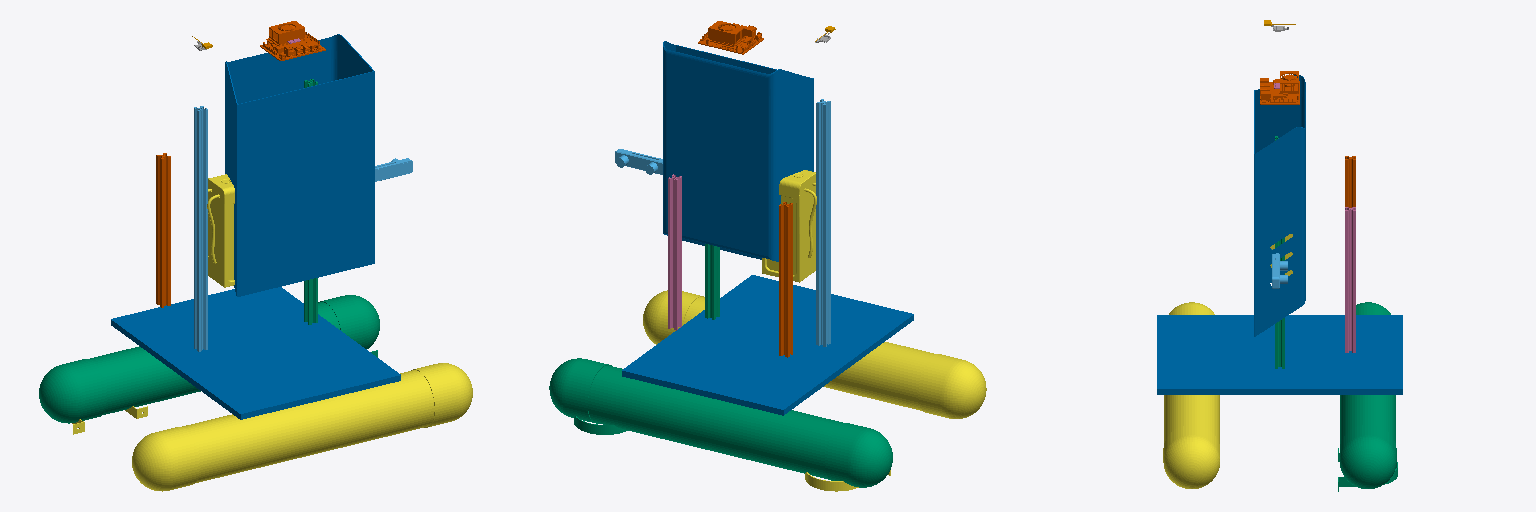
The robot description file, URDF, robot "asv_station_keeping_diag":
<?xml version='1.0' encoding='utf-8'?>
<robot name="asv_station_keeping_diag">
  <!-- Mesh-loading test only. Mounting poses are estimates, not Fusion occurrence transforms. 00_base has no visuals. -->
  <link name="base_footprint" />
  <link name="base_link">
    <inertial>
      <origin xyz="0 0 0" rpy="0 0 0" />
      <mass value="0.1" />
      <inertia ixx="0.0001" ixy="0" ixz="0" iyy="0.0001" iyz="0" izz="0.0001" />
    </inertial>
  </link>
  <link name="hull_left">
    <inertial>
      <origin xyz="0.0017543 -0.0000047 -0.0000010" rpy="0 0 0" />
      <mass value="8.7513272838" />
      <inertia ixx="0.0159438897" ixy="0" ixz="0" iyy="0.7485544942" iyz="0" izz="0.7485544942" />
    </inertial>
    <visual name="hull_left_visual">
      <origin xyz="-0.971730 0.357754 -1.641617" rpy="0 0 -1.57079632679" />
      <geometry>
        <mesh filename="package://asv_station_keeping/meshes/hull.stl" scale="0.001 0.001 0.001" />
      </geometry>
    </visual>
    <collision name="hull_left_collision">
      <geometry>
        <box size="0.724805 0.112973 0.112998" />
      </geometry>
    </collision>
  </link>
  <link name="hull_right">
    <inertial>
      <origin xyz="0.0017543 -0.0000047 -0.0000010" rpy="0 0 0" />
      <mass value="8.7513272838" />
      <inertia ixx="0.0159438897" ixy="0" ixz="0" iyy="0.7485544942" iyz="0" izz="0.7485544942" />
    </inertial>
    <visual name="hull_right_visual">
      <origin xyz="-0.971730 0.357754 -1.641617" rpy="0 0 -1.57079632679" />
      <geometry>
        <mesh filename="package://asv_station_keeping/meshes/hull.stl" scale="0.001 0.001 0.001" />
      </geometry>
    </visual>
    <collision name="hull_right_collision">
      <geometry>
        <box size="0.724805 0.112973 0.112998" />
      </geometry>
    </collision>
  </link>
  <link name="base_deck">
    <inertial>
      <origin xyz="0 0 0" rpy="0 0 0" />
      <mass value="16.1553" />
      <inertia ixx="0.3234344911" ixy="0" ixz="0" iyy="0.1651125511" iyz="0" izz="0.4881593150" />
    </inertial>
    <visual name="base_deck_visual">
      <origin xyz="-0.142254 -0.216347 -0.006000" rpy="1.57079632679 0 0" />
      <geometry>
        <mesh filename="package://asv_station_keeping/meshes/base_deck.stl" scale="0.001 0.001 0.001" />
      </geometry>
    </visual>
    <collision name="base_deck_collision">
      <geometry>
        <box size="0.350 0.490 0.012" />
      </geometry>
    </collision>
  </link>
  <link name="frame1_left">
    <inertial>
      <origin xyz="0 0 0" />
      <mass value="0.41469714" />
      <inertia ixx="0.00333785" ixy="0" ixz="0" iyy="0.00333785" iyz="0" izz="0.0000336422" />
    </inertial>
    <visual>
      <geometry>
        <mesh filename="package://asv_station_keeping/meshes/frame1.stl" scale="0.001 0.001 0.001" />
      </geometry>
    </visual>
    <collision>
      <geometry>
        <cylinder radius="0.010" length="0.310" />
      </geometry>
    </collision>
  </link>
  <link name="frame1_right">
    <inertial>
      <origin xyz="0 0 0" />
      <mass value="0.41469714" />
      <inertia ixx="0.00333785" ixy="0" ixz="0" iyy="0.00333785" iyz="0" izz="0.0000336422" />
    </inertial>
    <visual>
      <geometry>
        <mesh filename="package://asv_station_keeping/meshes/frame1.stl" scale="0.001 0.001 0.001" />
      </geometry>
    </visual>
    <collision>
      <geometry>
        <cylinder radius="0.010" length="0.310" />
      </geometry>
    </collision>
  </link>
  <link name="frame2_left">
    <inertial>
      <origin xyz="0 0 0" />
      <mass value="0.66886635" />
      <inertia ixx="0.01396185" ixy="0" ixz="0" iyy="0.01396185" iyz="0" izz="0.000054262" />
    </inertial>
    <visual>
      <geometry>
        <mesh filename="package://asv_station_keeping/meshes/frame2.stl" scale="0.001 0.001 0.001" />
      </geometry>
    </visual>
    <collision>
      <geometry>
        <cylinder radius="0.010" length="0.500" />
      </geometry>
    </collision>
  </link>
  <link name="frame2_right">
    <inertial>
      <origin xyz="0 0 0" />
      <mass value="0.66886635" />
      <inertia ixx="0.01396185" ixy="0" ixz="0" iyy="0.01396185" iyz="0" izz="0.000054262" />
    </inertial>
    <visual>
      <geometry>
        <mesh filename="package://asv_station_keeping/meshes/frame2.stl" scale="0.001 0.001 0.001" />
      </geometry>
    </visual>
    <collision>
      <geometry>
        <cylinder radius="0.010" length="0.500" />
      </geometry>
    </collision>
  </link>
  <link name="frame3_left">
    <inertial>
      <origin xyz="0 0 0" />
      <mass value="0.66886635" />
      <inertia ixx="0.01396185" ixy="0" ixz="0" iyy="0.01396185" iyz="0" izz="0.000054262" />
    </inertial>
    <visual>
      <geometry>
        <mesh filename="package://asv_station_keeping/meshes/frame3.stl" scale="0.001 0.001 0.001" />
      </geometry>
    </visual>
    <collision>
      <geometry>
        <cylinder radius="0.010" length="0.500" />
      </geometry>
    </collision>
  </link>
  <link name="frame3_right">
    <inertial>
      <origin xyz="0 0 0" />
      <mass value="0.66886635" />
      <inertia ixx="0.01396185" ixy="0" ixz="0" iyy="0.01396185" iyz="0" izz="0.000054262" />
    </inertial>
    <visual>
      <geometry>
        <mesh filename="package://asv_station_keeping/meshes/frame3.stl" scale="0.001 0.001 0.001" />
      </geometry>
    </visual>
    <collision>
      <geometry>
        <cylinder radius="0.010" length="0.500" />
      </geometry>
    </collision>
  </link>
  <link name="battery">
    <inertial>
      <origin xyz="0.011821 0 0.000846" />
      <mass value="8.29420474" />
      <inertia ixx="0.0317350" ixy="0" ixz="0.0000687" iyy="0.0339037" iyz="0" izz="0.00778636" />
    </inertial>
    <visual>
      <origin xyz="0.012244 -0.035000 -0.000150" />
      <geometry>
        <mesh filename="package://asv_station_keeping/meshes/battery.stl" scale="0.001 0.001 0.001" />
      </geometry>
    </visual>
    <collision>
      <geometry>
        <box size="0.109 0.070 0.202" />
      </geometry>
    </collision>
  </link>
  <link name="electronics">
    <inertial>
      <origin xyz="0 -0.005565 -0.000224" />
      <mass value="4.50915118" />
      <inertia ixx="0.0697094" ixy="0" ixz="0" iyy="0.1035140" iyz="-0.00452282" izz="0.0519051" />
    </inertial>
    <visual>
      <origin xyz="0 -0.051000 -0.023578" />
      <geometry>
        <mesh filename="package://asv_station_keeping/meshes/electronics.stl" scale="0.001 0.001 0.001" />
      </geometry>
    </visual>
    <collision>
      <geometry>
        <box size="0.300 0.102 0.447" />
      </geometry>
    </collision>
  </link>
  <link name="jetson_nano">
    <inertial>
      <origin xyz="-0.001623 0.002547 -0.004382" />
      <mass value="0.55767391" />
      <inertia ixx="0.00033845" ixy="0.000000893" ixz="0.00000257" iyy="0.00033690" iyz="-0.00004065" izz="0.00056875" />
    </inertial>
    <visual>
      <origin xyz="-0.004000 -0.007385 -0.025097" />
      <geometry>
        <mesh filename="package://asv_station_keeping/meshes/Jetson-Nano.stl" scale="0.001 0.001 0.001" />
      </geometry>
    </visual>
    <collision>
      <geometry>
        <box size="0.100 0.080 0.040" />
      </geometry>
    </collision>
  </link>
  <link name="imu_link">
    <inertial>
      <origin xyz="-0.00000256 0.00000402 0" />
      <mass value="0.00700317" />
      <inertia ixx="0.0000002895" ixy="0.000000000021" ixz="0" iyy="0.0000003634" iyz="0" izz="0.0000006497" />
    </inertial>
    <visual>
      <geometry>
        <mesh filename="package://asv_station_keeping/meshes/imu_Adafruit-BNO085-STEMMA-QT.step_Printed-Circuit-Board.step.stl" scale="0.001 0.001 0.001" />
      </geometry>
    </visual>
    <collision>
      <geometry>
        <box size="0.0254 0.0229 0.00165" />
      </geometry>
    </collision>
  </link>
  <link name="gps">
    <inertial>
      <origin xyz="0.000722 -0.000920 -0.001504" />
      <mass value="0.0120864" />
      <inertia ixx="0.0000007935" ixy="-0.0000001189" ixz="-0.0000000123" iyy="0.0000003115" iyz="-0.0000000289" izz="0.0000010352" />
    </inertial>
    <visual>
      <origin xyz="0.477241 -0.271714 -0.058863" />
      <geometry>
        <mesh filename="package://asv_station_keeping/meshes/gps.stl" scale="0.001 0.001 0.001" />
      </geometry>
    </visual>
    <collision>
      <geometry>
        <box size="0.018 0.038 0.010" />
      </geometry>
    </collision>
  </link>
  <link name="gps_antenna">
    <inertial>
      <origin xyz="0 -0.023073 0.000028" />
      <mass value="0.00977979" />
      <inertia ixx="0.0000006570" ixy="0" ixz="0" iyy="0.0000001906" iyz="0.0000000297" izz="0.0000007948" />
    </inertial>
    <visual>
      <origin xyz="0 -0.024375 -0.002900" />
      <geometry>
        <mesh filename="package://asv_station_keeping/meshes/gps_antenna.stl" scale="0.001 0.001 0.001" />
      </geometry>
    </visual>
    <collision>
      <geometry>
        <box size="0.015 0.064 0.006" />
      </geometry>
    </collision>
  </link>
  <link name="zed_camera">
    <inertial>
      <origin xyz="0.001495 -0.005480 -0.000004" />
      <mass value="0.43618915" />
      <inertia ixx="0.00004355" ixy="-0.00000770" ixz="0.000000005" iyy="0.00057262" iyz="0.000000007" izz="0.00057177" />
    </inertial>
    <visual>
      <origin xyz="0.002250 -0.015125 -0.000012" />
      <geometry>
        <mesh filename="package://asv_station_keeping/meshes/zed_camera.stl" scale="0.001 0.001 0.001" />
      </geometry>
    </visual>
    <collision>
      <geometry>
        <box size="0.125 0.030 0.027" />
      </geometry>
    </collision>
  </link>
  <link name="clamp_left_front">
    <inertial>
      <origin xyz="0 0.001988 0" />
      <mass value="0.10948492" />
      <inertia ixx="0.00019881" ixy="0" ixz="0" iyy="0.00029460" iyz="0" izz="0.00048607" />
    </inertial>
    <visual>
      <origin xyz="-0.039825 -0.046506 -0.010000" />
      <geometry>
        <mesh filename="package://asv_station_keeping/meshes/clamp.stl" scale="0.001 0.001 0.001" />
      </geometry>
    </visual>
    <collision>
      <geometry>
        <box size="0.163 0.120 0.020" />
      </geometry>
    </collision>
  </link>
  <link name="clamp_left_rear">
    <inertial>
      <origin xyz="0 0.001988 0" />
      <mass value="0.10948492" />
      <inertia ixx="0.00019881" ixy="0" ixz="0" iyy="0.00029460" iyz="0" izz="0.00048607" />
    </inertial>
    <visual>
      <origin xyz="-0.039825 -0.046506 -0.010000" />
      <geometry>
        <mesh filename="package://asv_station_keeping/meshes/clamp.stl" scale="0.001 0.001 0.001" />
      </geometry>
    </visual>
    <collision>
      <geometry>
        <box size="0.163 0.120 0.020" />
      </geometry>
    </collision>
  </link>
  <joint name="base_footprint_to_base_link" type="fixed">
    <parent link="base_footprint" />
    <child link="base_link" />
    <origin xyz="0 0 0" rpy="0 0 0" />
  </joint>
  <joint name="base_to_hull_left" type="fixed">
    <parent link="base_link" />
    <child link="hull_left" />
    <origin xyz="0 0.175 0.055" rpy="0 0 0" />
  </joint>
  <joint name="base_to_hull_right" type="fixed">
    <parent link="base_link" />
    <child link="hull_right" />
    <origin xyz="0 -0.175 0.055" rpy="0 0 0" />
  </joint>
  <joint name="base_to_base_deck" type="fixed">
    <parent link="base_link" />
    <child link="base_deck" />
    <origin xyz="0 0 0.145" rpy="0 0 0" />
  </joint>
  <joint name="deck_to_frame1_left" type="fixed">
    <parent link="base_deck" />
    <child link="frame1_left" />
    <origin xyz="-0.12 0.14 0.22" />
  </joint>
  <joint name="deck_to_frame1_right" type="fixed">
    <parent link="base_deck" />
    <child link="frame1_right" />
    <origin xyz="0.12 0.14 0.22" />
  </joint>
  <joint name="deck_to_frame2_left" type="fixed">
    <parent link="base_deck" />
    <child link="frame2_left" />
    <origin xyz="-0.12 -0.14 0.28" />
  </joint>
  <joint name="deck_to_frame2_right" type="fixed">
    <parent link="base_deck" />
    <child link="frame2_right" />
    <origin xyz="0.12 -0.14 0.28" />
  </joint>
  <joint name="deck_to_frame3_left" type="fixed">
    <parent link="base_deck" />
    <child link="frame3_left" />
    <origin xyz="-0.12 0 0.28" />
  </joint>
  <joint name="deck_to_frame3_right" type="fixed">
    <parent link="base_deck" />
    <child link="frame3_right" />
    <origin xyz="0.12 0 0.28" />
  </joint>
  <joint name="deck_to_battery" type="fixed">
    <parent link="base_deck" />
    <child link="battery" />
    <origin xyz="-0.06 0 0.265" />
  </joint>
  <joint name="deck_to_electronics" type="fixed">
    <parent link="base_deck" />
    <child link="electronics" />
    <origin xyz="0.08 0 0.370" />
  </joint>
  <joint name="electronics_to_jetson" type="fixed">
    <parent link="electronics" />
    <child link="jetson_nano" />
    <origin xyz="0 0 0.255" />
  </joint>
  <joint name="electronics_to_imu" type="fixed">
    <parent link="electronics" />
    <child link="imu_link" />
    <origin xyz="0 0 0.255" />
  </joint>
  <joint name="deck_to_gps" type="fixed">
    <parent link="base_deck" />
    <child link="gps" />
    <origin xyz="-0.12 0 0.66" />
  </joint>
  <joint name="gps_to_antenna" type="fixed">
    <parent link="gps" />
    <child link="gps_antenna" />
    <origin xyz="0 0 0.010" />
  </joint>
  <joint name="deck_to_zed_camera" type="fixed">
    <parent link="base_deck" />
    <child link="zed_camera" />
    <origin xyz="0.27 0 0.31" rpy="0 0 0" />
  </joint>
  <joint name="hull_left_to_clamp_front" type="fixed">
    <parent link="hull_left" />
    <child link="clamp_left_front" />
    <origin xyz="0.25 0 -0.045" />
  </joint>
  <joint name="hull_left_to_clamp_rear" type="fixed">
    <parent link="hull_left" />
    <child link="clamp_left_rear" />
    <origin xyz="-0.25 0 -0.045" />
  </joint>
</robot>

--- What the picture shows (computed from the rendered views, not written in the file) ---
The picture shows the robot from 3 angles, left to right: view 1: azimuth 30°, elevation 25°; view 2: azimuth 150°, elevation 25°; view 3: azimuth 270°, elevation 25°; orthographic projection.
Model asv_station_keeping_diag with 20 links and 19 joints (19 fixed), rooted at base_footprint, posed all joints at 0.
Visible links, largest first — view 1: electronics, base_deck, hull_right, hull_left, frame3_left, battery, frame1_left, jetson_nano, frame3_right, zed_camera; view 2: electronics, base_deck, hull_left, hull_right, frame3_left, battery, frame1_left, frame1_right, jetson_nano, frame3_right, zed_camera; view 3: base_deck, electronics, hull_right, hull_left, frame1_right, jetson_nano, frame1_left, frame3_right.
Link boxes in pixels (box(x1,y1,x2,y2)): electronics: box(225, 34, 374, 296); base_deck: box(111, 287, 400, 419); hull_right: box(132, 363, 472, 491); hull_left: box(39, 295, 379, 423); frame3_left: box(194, 106, 207, 351); battery: box(207, 174, 234, 287); frame1_left: box(156, 153, 170, 307); jetson_nano: box(260, 21, 325, 60); frame3_right: box(304, 79, 317, 324); zed_camera: box(375, 158, 412, 181); electronics: box(663, 41, 813, 261); base_deck: box(622, 275, 913, 415); hull_left: box(549, 358, 892, 487); hull_right: box(643, 290, 986, 418); frame3_left: box(816, 99, 830, 346); battery: box(762, 170, 816, 282); frame1_left: box(779, 202, 792, 357); frame1_right: box(668, 174, 681, 330); jetson_nano: box(698, 21, 763, 54); frame3_right: box(705, 244, 719, 319); zed_camera: box(615, 149, 662, 174); base_deck: box(1157, 315, 1402, 394); electronics: box(1254, 75, 1305, 336); hull_right: box(1163, 302, 1219, 488); hull_left: box(1340, 302, 1396, 488); frame1_right: box(1345, 207, 1355, 352); jetson_nano: box(1260, 71, 1299, 104); frame1_left: box(1345, 156, 1355, 207); frame3_right: box(1275, 136, 1284, 368).
Bounding box of the posed robot: 0.7248 × 0.49 × 0.8194 m (x, y, z).
16 mesh visuals loaded from 13 distinct referenced files (12 binary STL); not drawn: 2 (reference not matched to a file when rendering).
